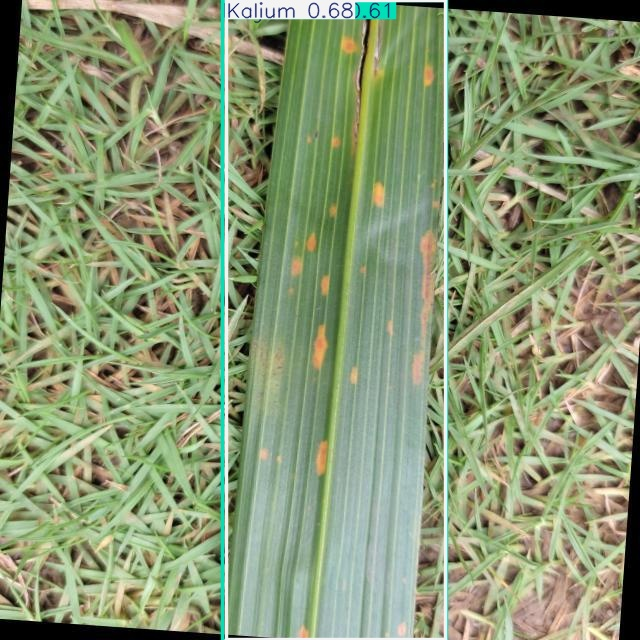Kalium: (226, 1, 446, 639)
Megnesium: (222, 0, 446, 640)
